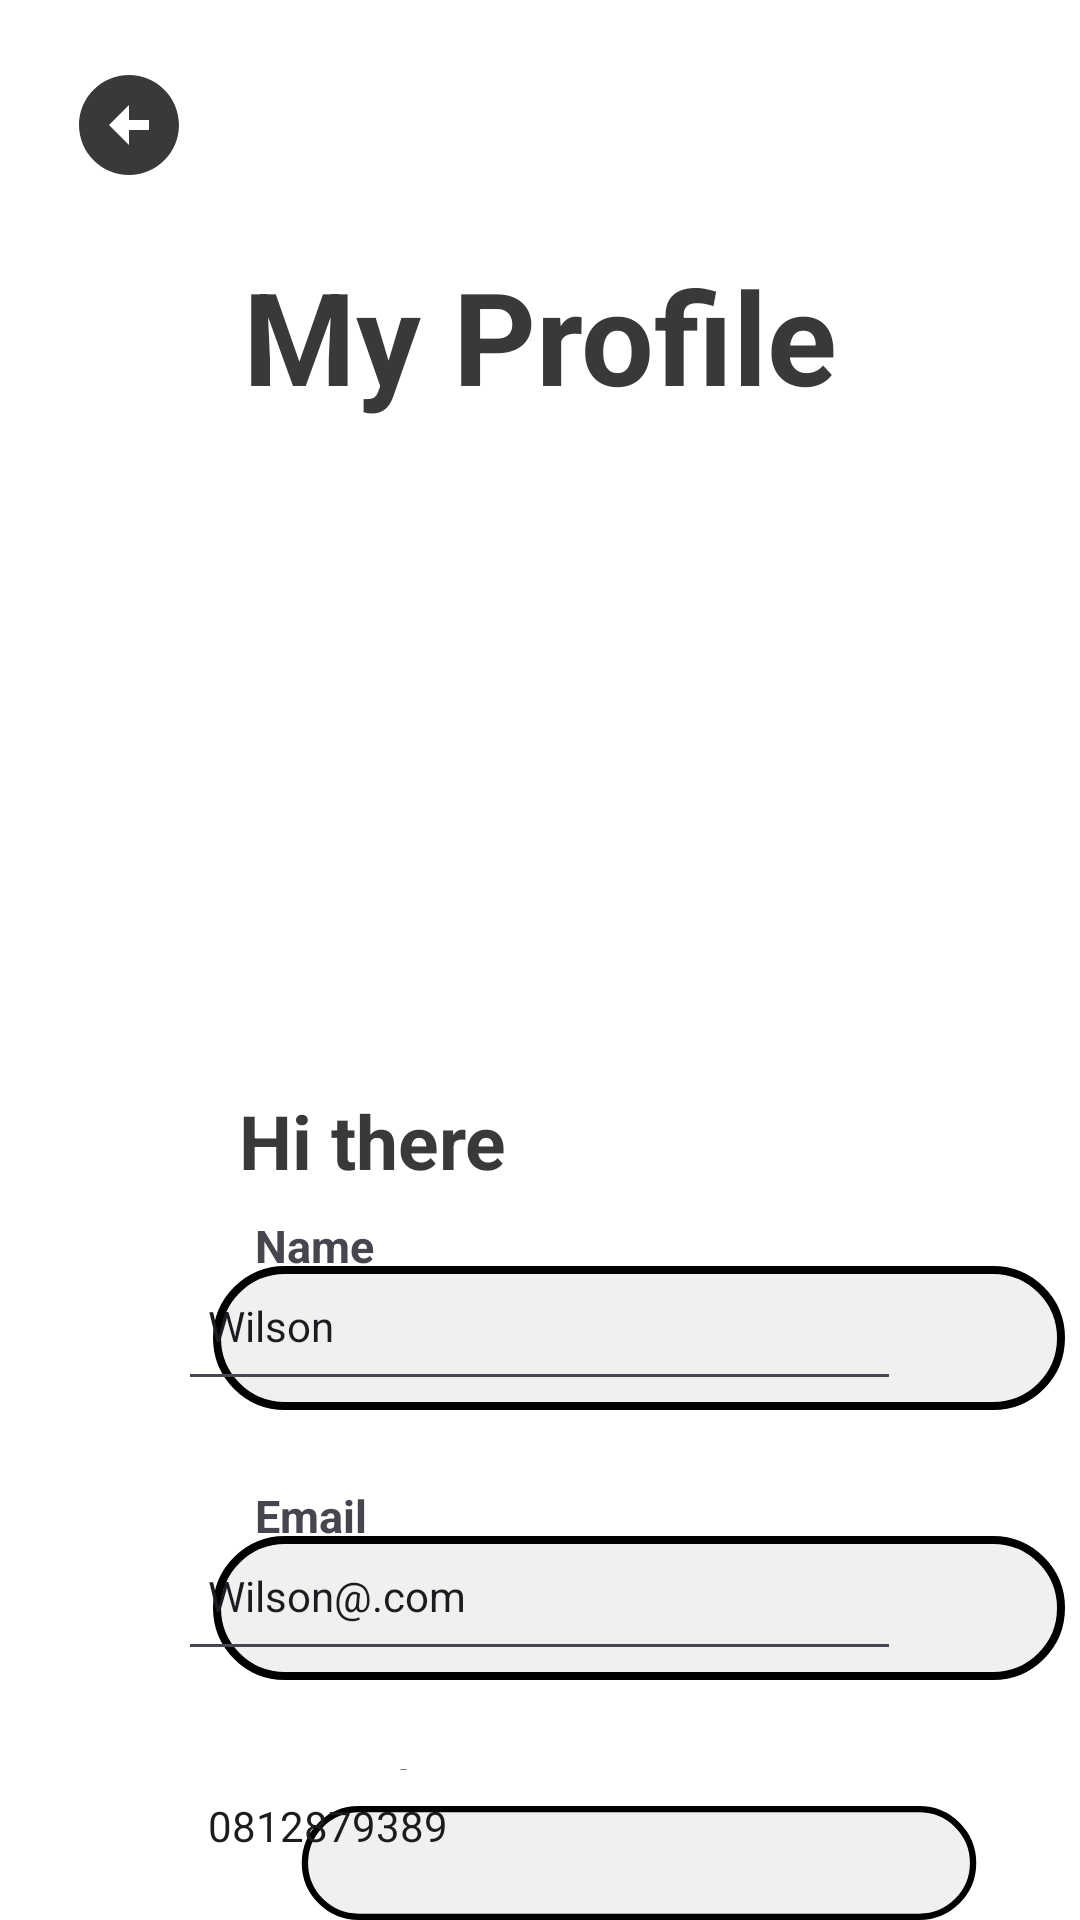

Named icons in this screenshot (1080*1920) and their centers, (x,y):
back: (129,125)
